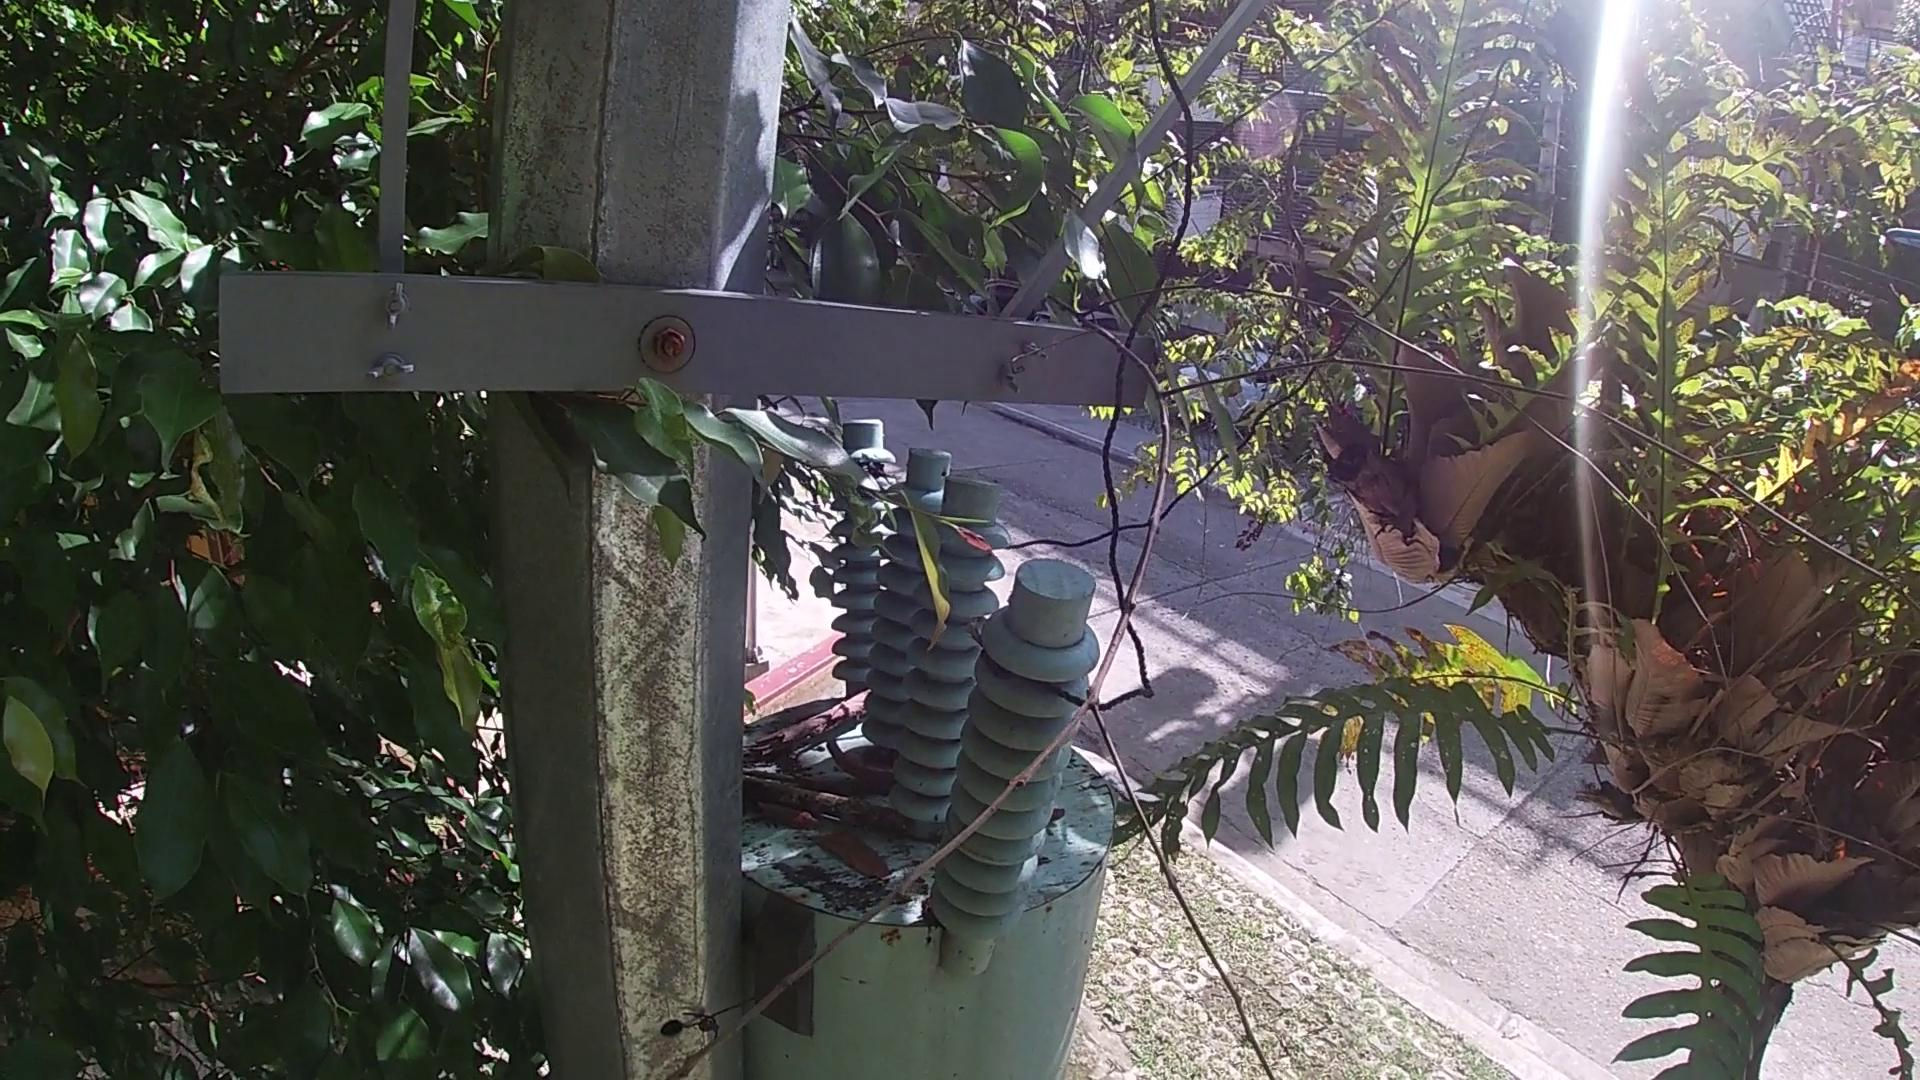leaf: (806, 831, 897, 884), (756, 799, 818, 829)
tree branch: (666, 278, 1920, 1076), (741, 769, 907, 837), (742, 686, 874, 767)
